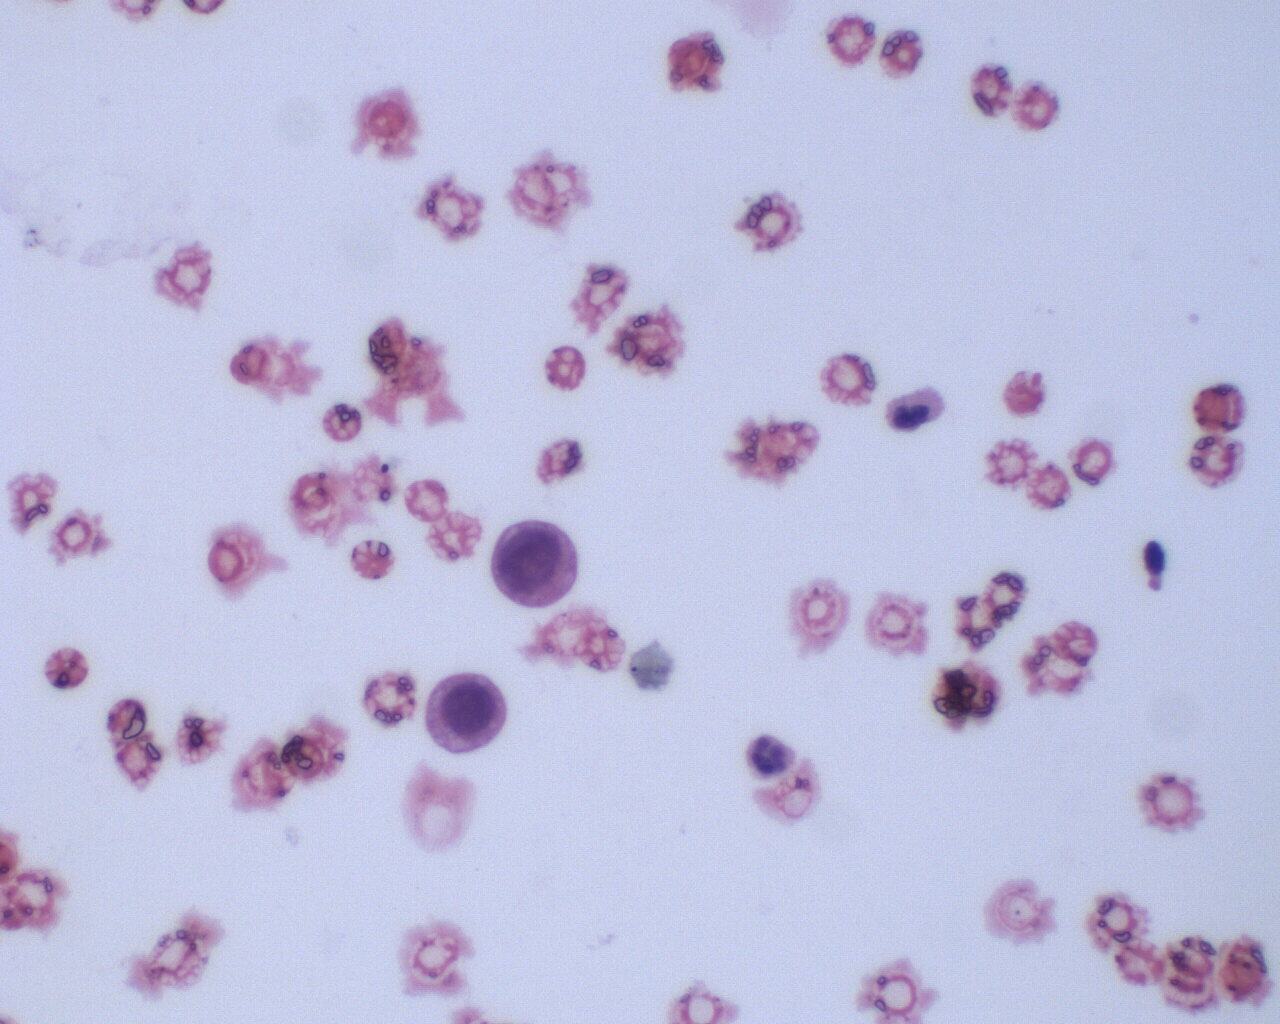ab: (487, 511, 586, 615), (416, 668, 511, 757)
